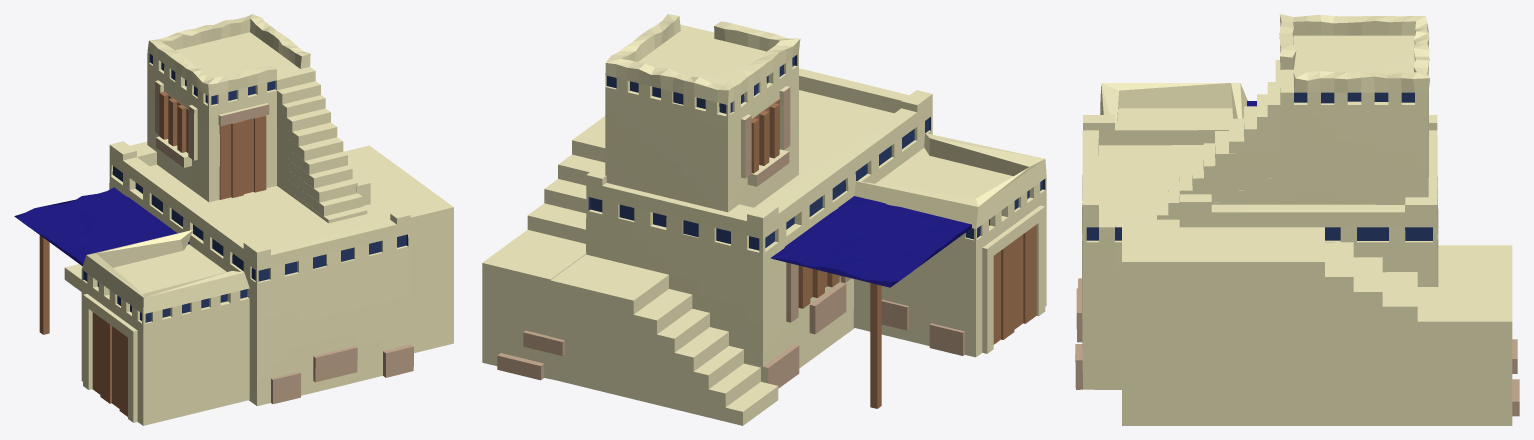
The model's file is dom3.fbx.
3 views of the same model, side by side, from view 1: azimuth 30°, elevation 25°; view 2: azimuth 150°, elevation 25°; view 3: azimuth 270°, elevation 25° (orthographic). The views are drawn at different scales.
Parts seen in each view (by area): view 1: Cube.001, Cube.003, Cube.002, Cube.006, Cube.011, Cube.007, Cube.004, Cube.008, Cube.010; view 2: Cube.001, Cube.003, Cube.002, Cube.009, Cube.006, Cube.011, Cube.004, Cube.008, Cube.010, Cube.005; view 3: Cube.006, Cube.003, Cube.001, Cube.002, Cube.009.
Boxes of the visible parts, x1,y1,x2,y2 form: Cube.001: (109, 141, 413, 406); Cube.003: (147, 14, 367, 223); Cube.002: (81, 230, 249, 425); Cube.006: (343, 145, 453, 352); Cube.011: (14, 187, 189, 265); Cube.007: (219, 115, 266, 199); Cube.004: (92, 312, 127, 416); Cube.008: (159, 91, 188, 152); Cube.010: (39, 235, 49, 334); Cube.001: (586, 68, 932, 388); Cube.003: (605, 14, 800, 212); Cube.002: (853, 133, 1046, 357); Cube.009: (548, 254, 778, 425); Cube.006: (482, 116, 605, 380); Cube.011: (770, 196, 971, 287); Cube.004: (993, 224, 1036, 344); Cube.008: (751, 99, 779, 173); Cube.010: (870, 283, 881, 408); Cube.005: (798, 265, 841, 308); Cube.006: (1122, 227, 1519, 425); Cube.003: (1157, 14, 1430, 219); Cube.001: (1075, 114, 1438, 389); Cube.002: (1100, 83, 1247, 226); Cube.009: (1438, 245, 1517, 346).
Bounding box in the file's own units: 2909 × 2877 × 2205.
